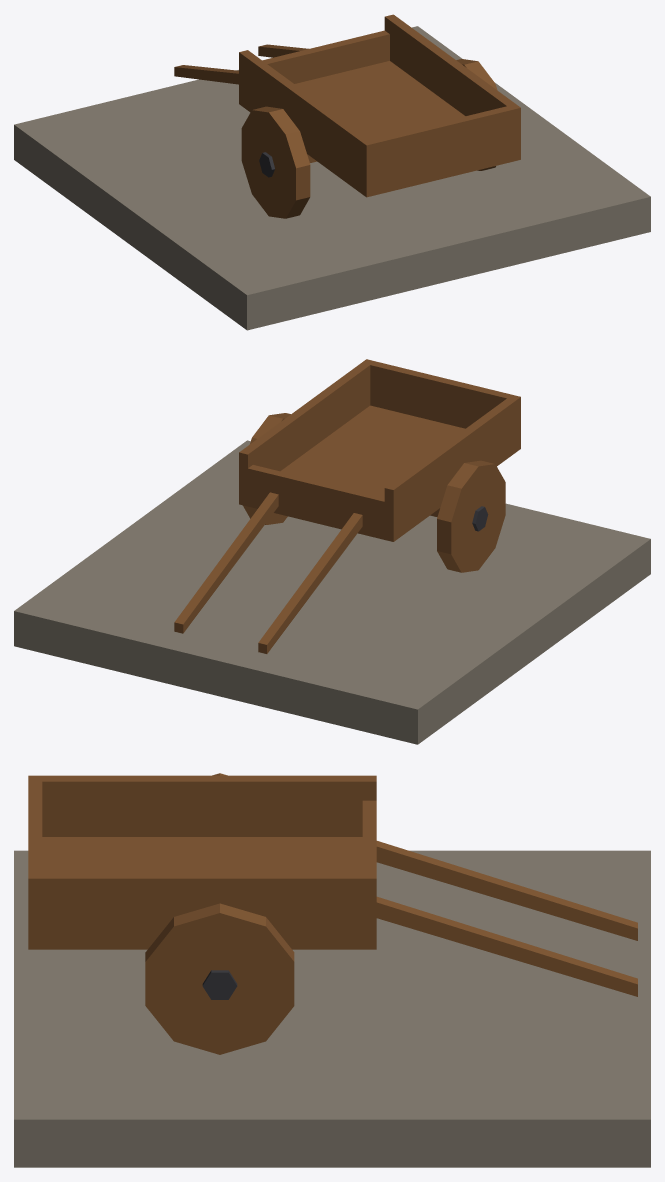
Rendered from Teren_Bruk_Woz.fbx.
The picture shows the model from 3 angles, top to bottom: view 1: azimuth 30°, elevation 25°; view 2: azimuth 150°, elevation 25°; view 3: azimuth 270°, elevation 25°; orthographic projection. The views are drawn at different scales.
Parts seen in each view (by area): view 1: Teren_Bruk_Woz; view 2: Teren_Bruk_Woz; view 3: Teren_Bruk_Woz.
Boxes of the visible parts, bbox=[...] form: Teren_Bruk_Woz: bbox=[14, 14, 650, 330]; Teren_Bruk_Woz: bbox=[14, 359, 650, 744]; Teren_Bruk_Woz: bbox=[14, 773, 650, 1167].
Size of the model in its own units: 3 by 1.07 by 3.
